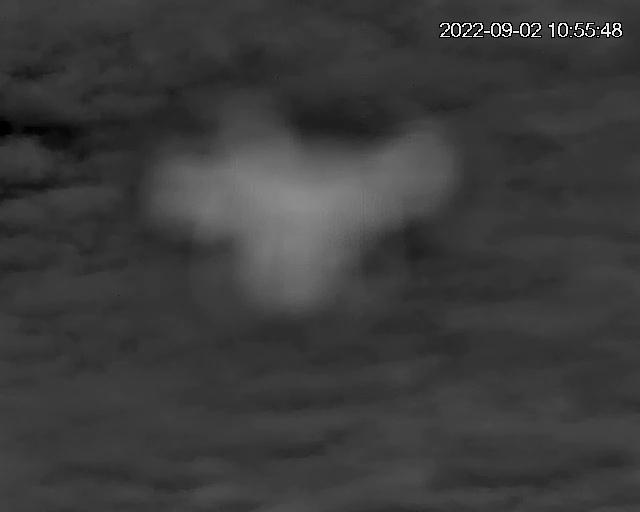DJI-Phantom: (160, 115, 444, 321)
